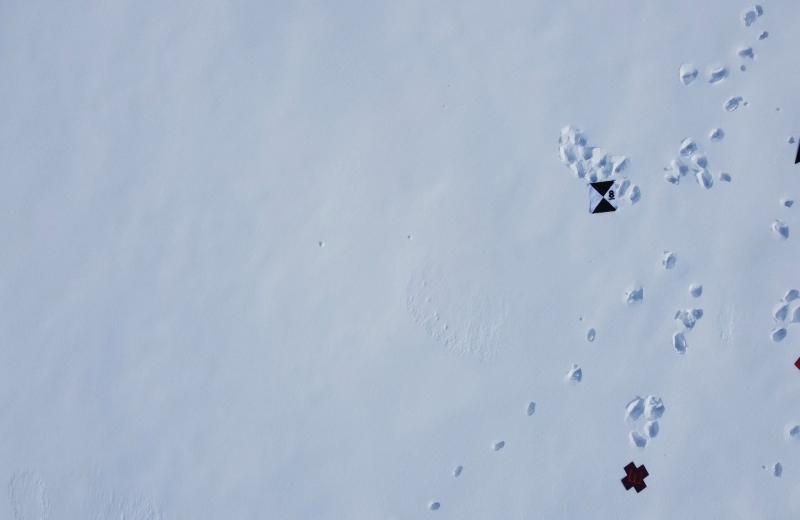Cross: (619, 457, 651, 497)
